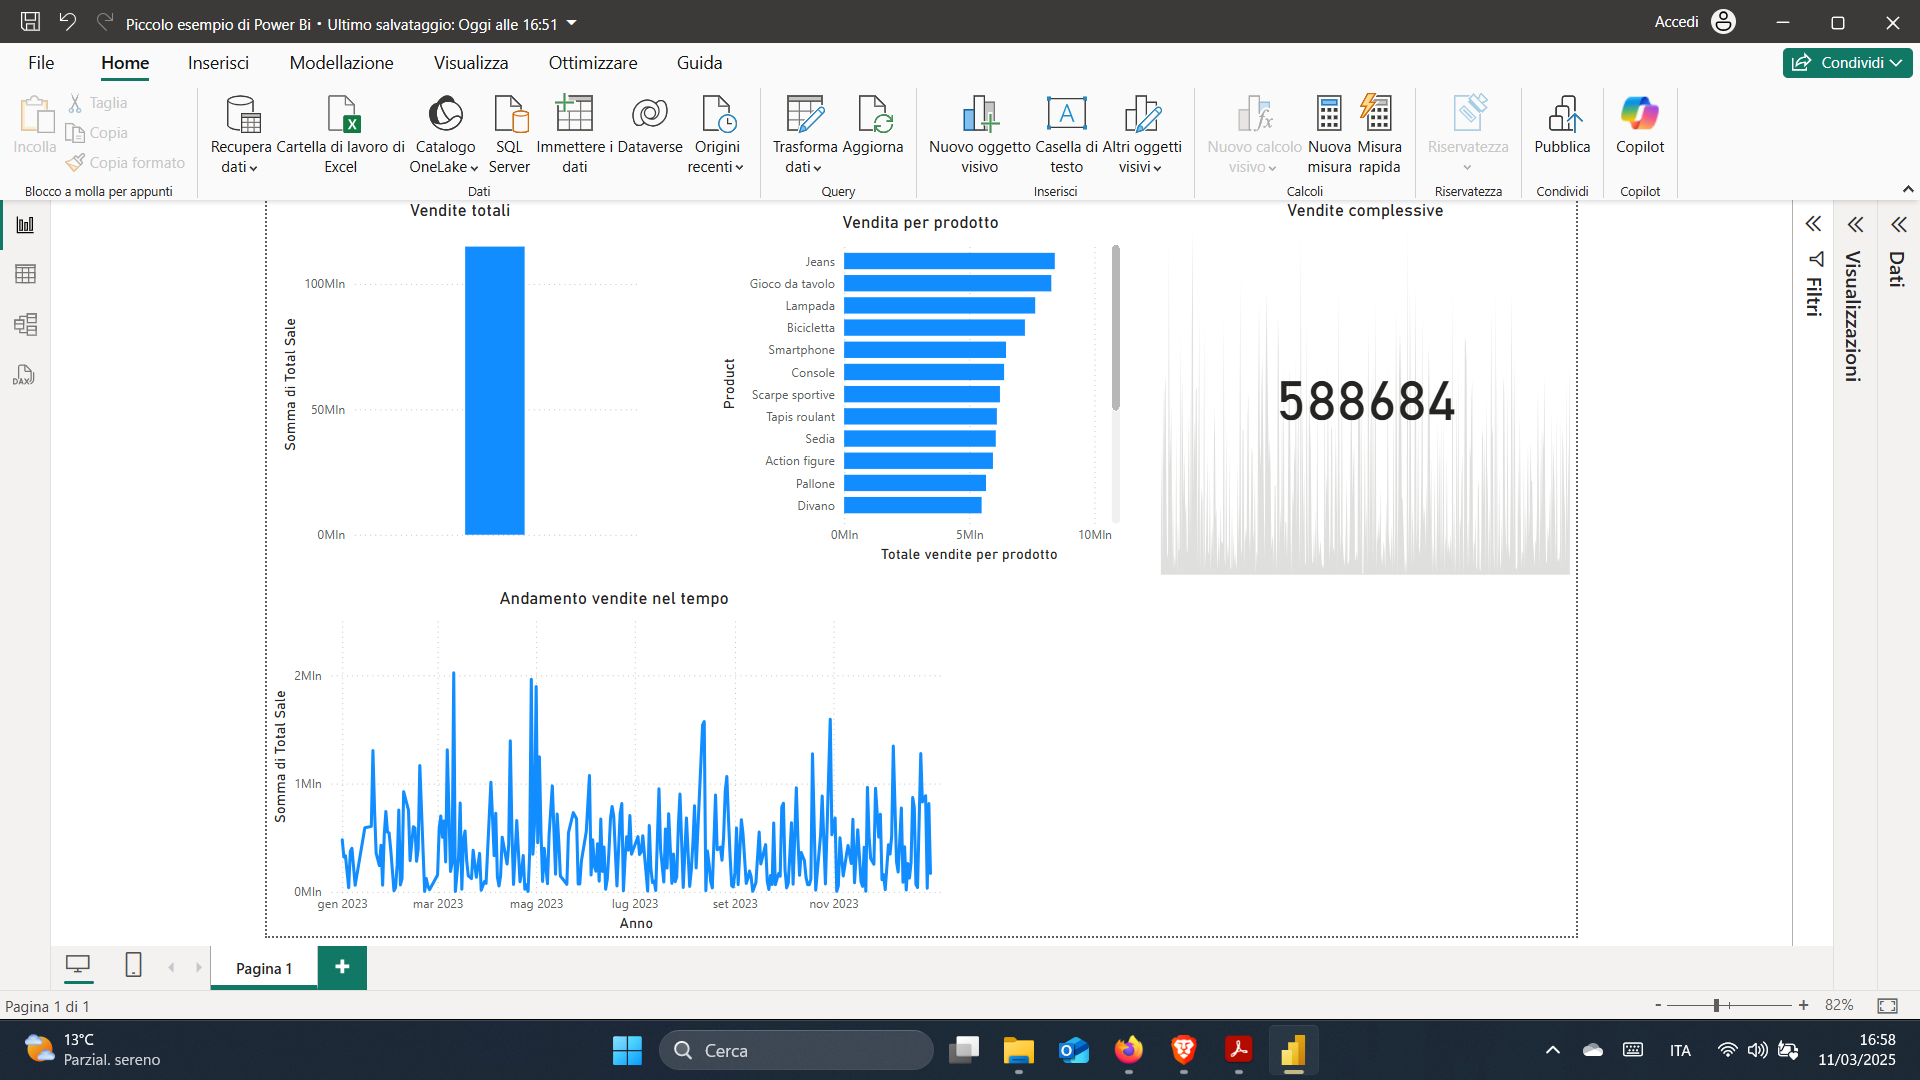

What the dashboard file says about the page in this screenshot:
{"tool":"powerbi","page":{"name":"Pagina 1","canvas":[1280,720],"ordinal":0},"visuals":[{"type":"clusteredColumnChart","title":"Vendite totali","fields":{"Y":["Sum(ecommerce_sales_dataset.Total Sale)"]},"box":[9.6,0,358.1,341.7],"z":0},{"type":"barChart","title":"Vendita per prodotto","fields":{"Y":["Sum(ecommerce_sales_dataset.Total Sale)"],"Category":["ecommerce_sales_dataset.Product"]},"box":[439.1,11,400.7,348.5],"z":1000},{"type":"lineChart","title":"Andamento vendite nel tempo","fields":{"Y":["Sum(ecommerce_sales_dataset.Total Sale)"],"Category":["ecommerce_sales_dataset.Order Date.Variazione.Gerarchia data.Anno","ecommerce_sales_dataset.Order Date.Variazione.Gerarchia data.Trimestre","ecommerce_sales_dataset.Order Date.Variazione.Gerarchia data.Mese","ecommerce_sales_dataset.Order Date.Variazione.Gerarchia data.Giorno"]},"box":[0,378.7,679.2,341.7],"z":2000},{"type":"kpi","title":"Vendite complessive","fields":{"Indicator":["Sum(ecommerce_sales_dataset.Total Sale)"],"TrendLine":["ecommerce_sales_dataset.Order ID"]},"box":[870,0,410.3,371.9],"z":3000}]}

Visuals, with their boxes on the page's 1280x720 design canvas (x1, y1, x2, y2). These are canvas units, not pixel positions in the 1920x1080 screenshot, which may show the page scaled, cropped or inside an application window:
"Vendite totali" clusteredColumnChart: [10, 0, 368, 342]
"Vendita per prodotto" barChart: [439, 11, 840, 360]
"Andamento vendite nel tempo" lineChart: [0, 379, 679, 720]
"Vendite complessive" kpi: [870, 0, 1280, 372]
